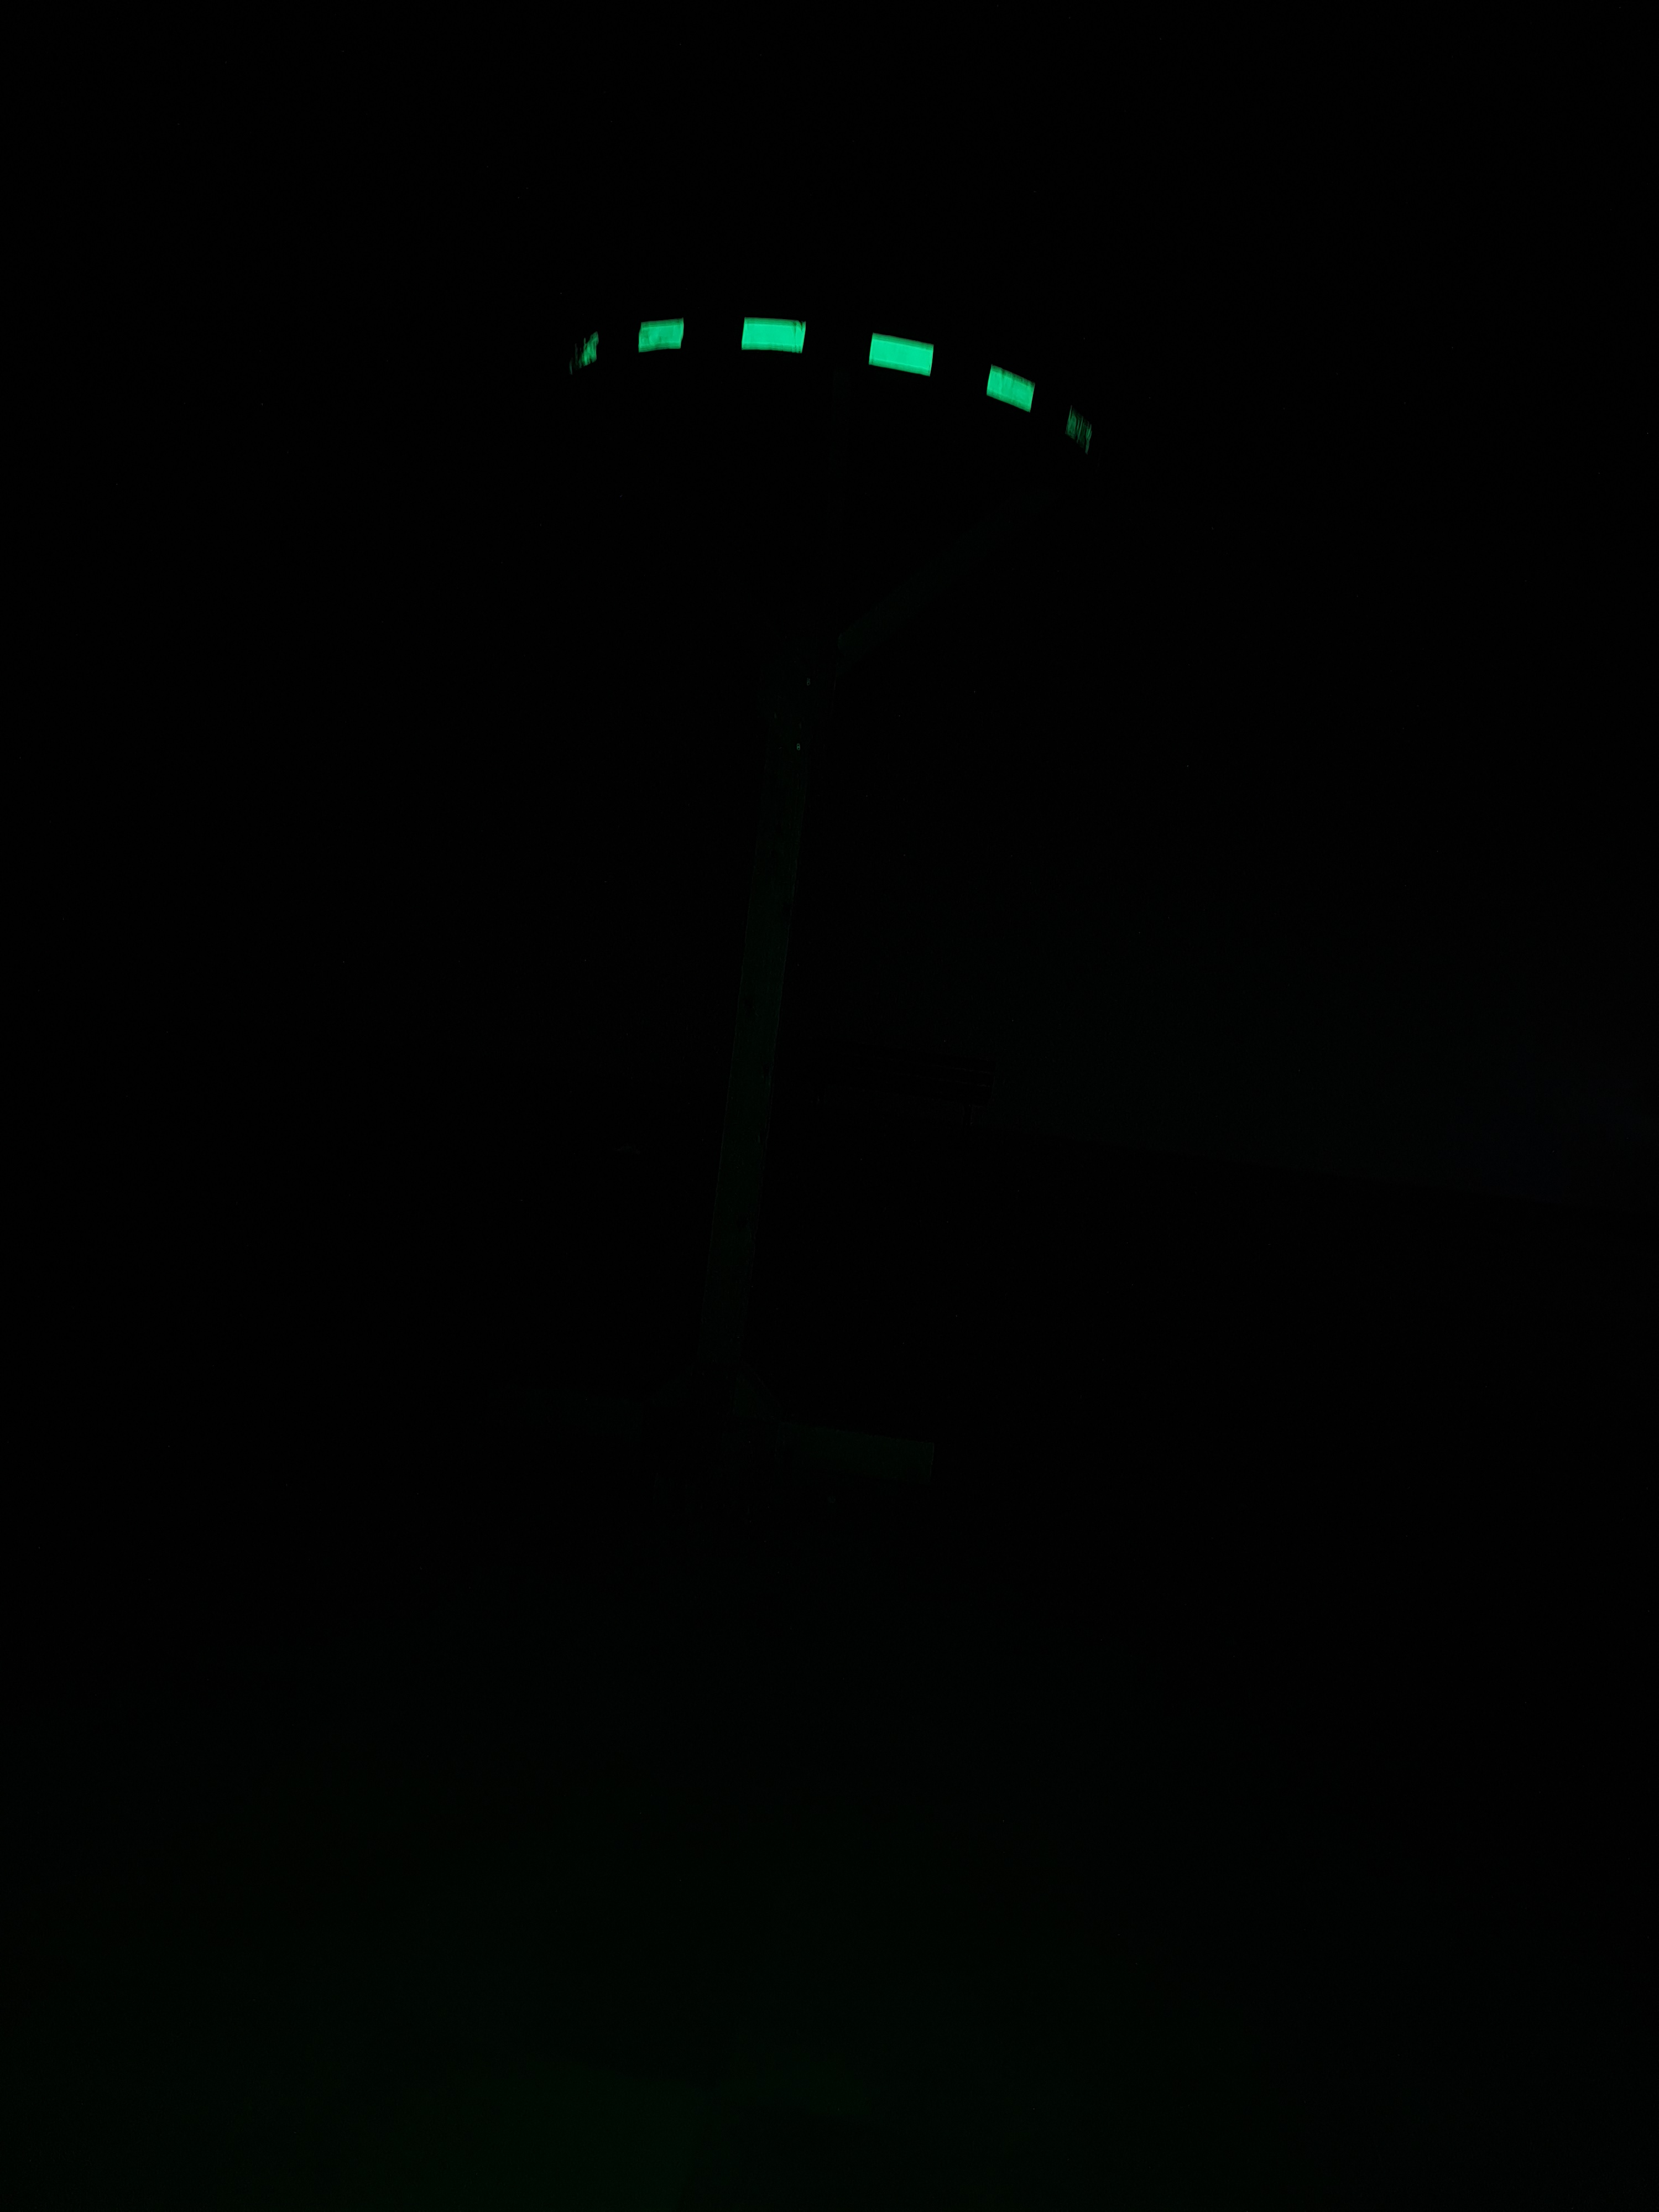hoop: (565, 303, 1100, 456)
